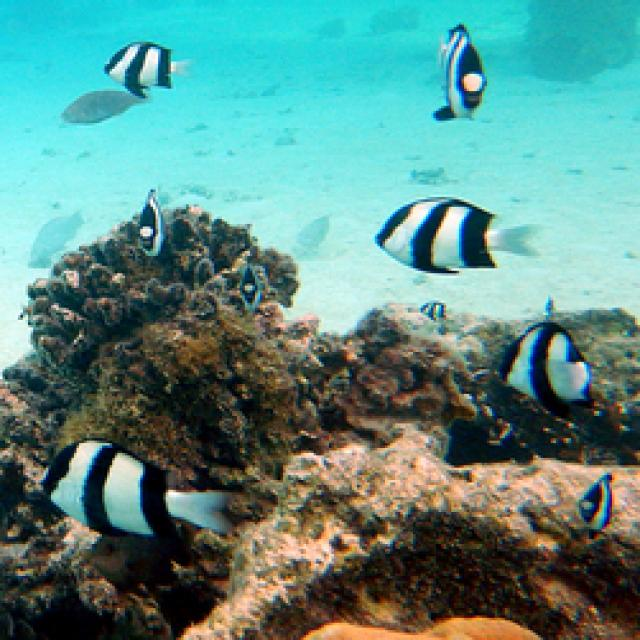ThreeStripedDamselfish: (41, 441, 232, 549), (375, 197, 533, 276), (502, 315, 604, 421), (436, 25, 487, 121), (105, 42, 184, 98), (138, 190, 168, 258)
